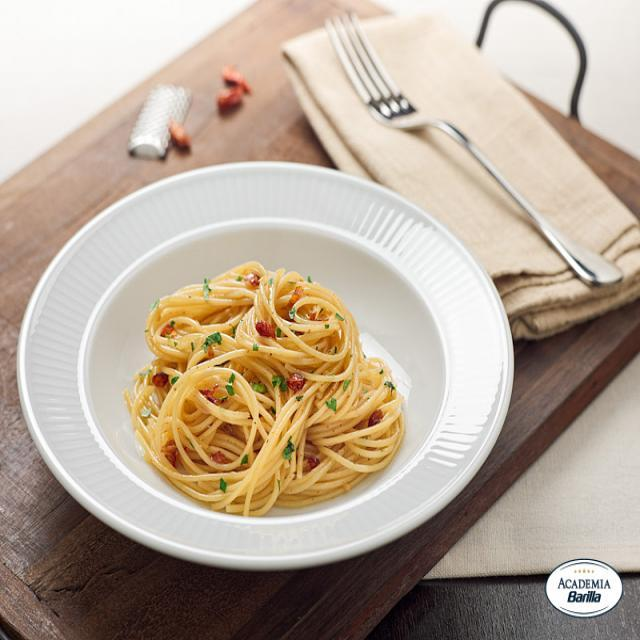Oil pasta: (91, 247, 429, 520)
